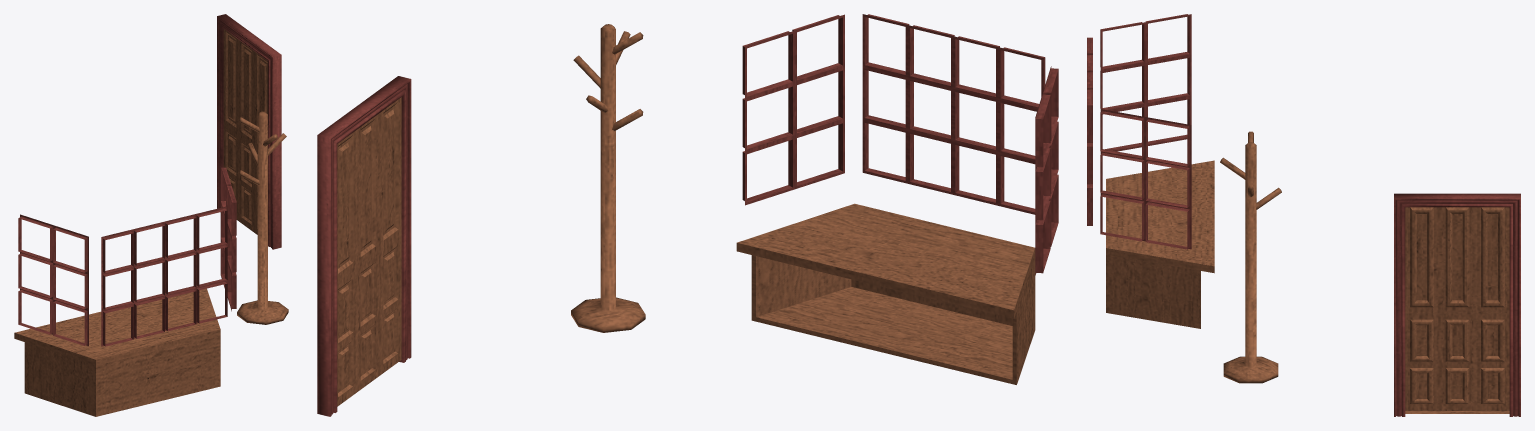
The model's file is Door.fbx.
3 renders of one model, left to right at view 1: azimuth 30°, elevation 25°; view 2: azimuth 150°, elevation 25°; view 3: azimuth 270°, elevation 25°, orthographic. The views are drawn at different scales.
Visible parts, largest first — view 1: Object_49, Object_49.001; view 2: Object_49, Object_49.001; view 3: Object_49.001, Object_49.
Part boxes in pixels (<box>): Object_49: <box>14,111,288,416</box>; Object_49.001: <box>217,14,281,249</box>; Object_49: <box>571,14,1058,384</box>; Object_49.001: <box>317,76,411,416</box>; Object_49.001: <box>1394,193,1520,416</box>; Object_49: <box>1087,14,1281,383</box>.
Bounding box in the file's own units: 1355 × 1266 × 737.
1 material, 1 textured.
